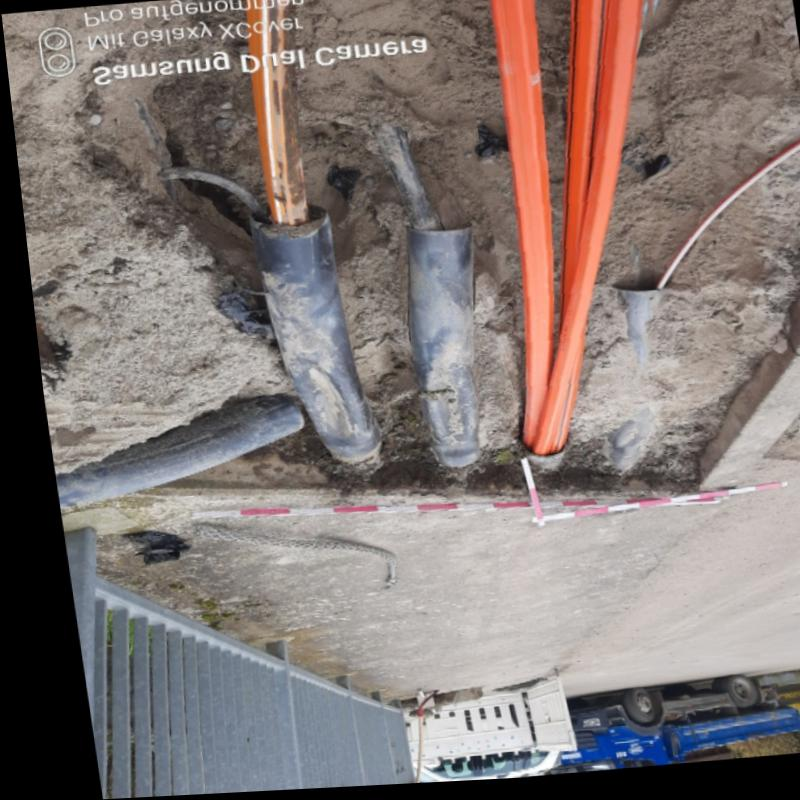Orang-Speednetrohrchen: (498, 0, 642, 458), (247, 0, 297, 220)
